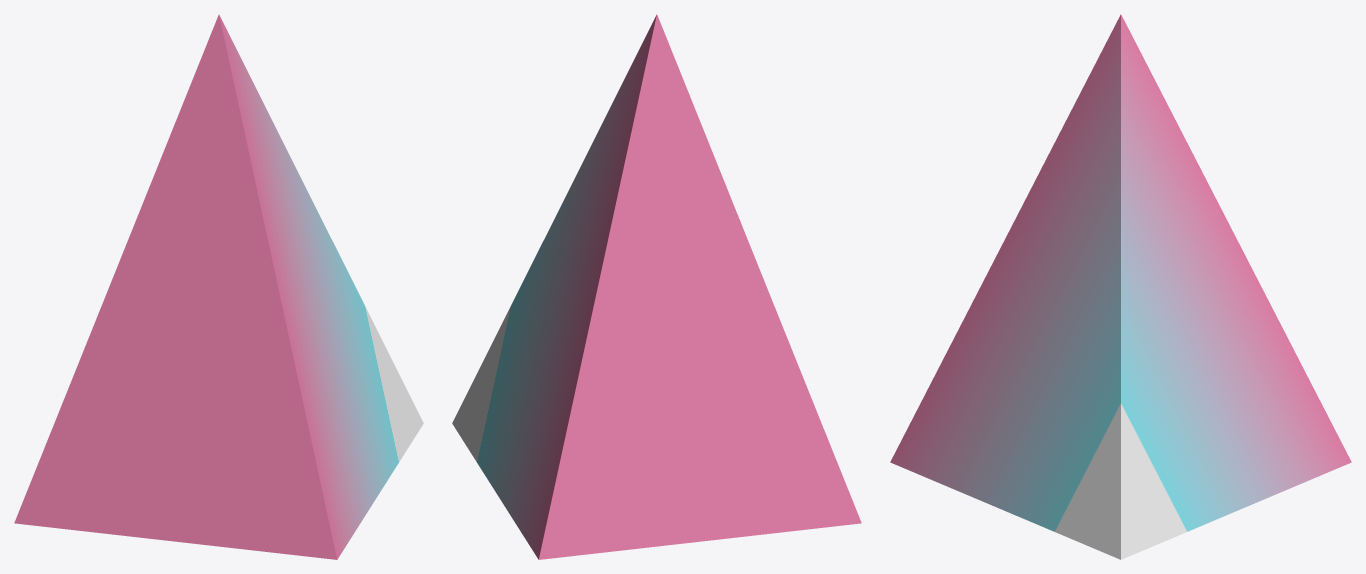
3 renders of one model, left to right at view 1: azimuth 30°, elevation 25°; view 2: azimuth 150°, elevation 25°; view 3: azimuth 270°, elevation 25°, orthographic. The views are drawn at different scales.
Parts seen in each view (by area): view 1: VibrantPyramid; view 2: VibrantPyramid; view 3: VibrantPyramid.
Boxes of the visible parts, box(x1,y1,x2,y2) form: VibrantPyramid: box(14, 14, 423, 559); VibrantPyramid: box(452, 14, 861, 559); VibrantPyramid: box(890, 14, 1351, 559).
Size of the model in its own units: 2.8 by 3 by 2.8.
Materials: 1 (1 with a texture image).
